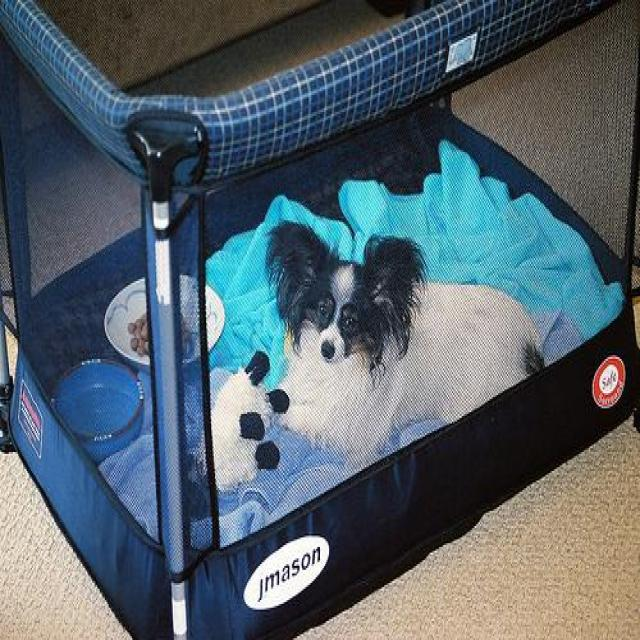papillon: (262, 215, 546, 474)
